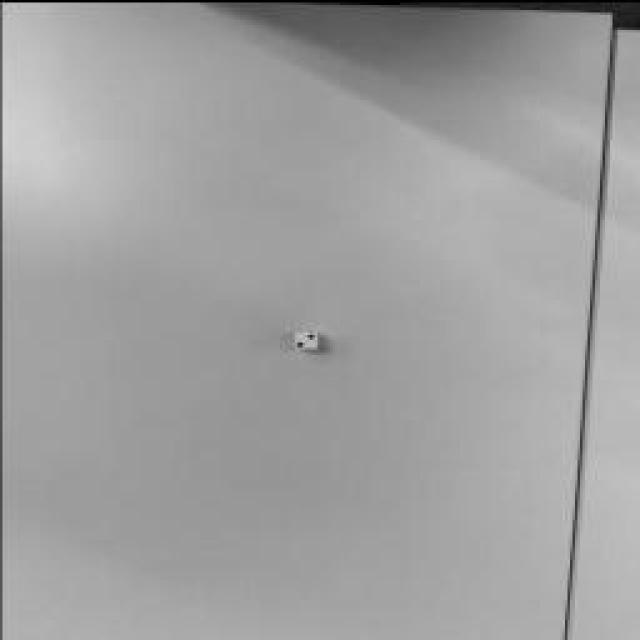dice_2: (294, 330, 316, 345)
